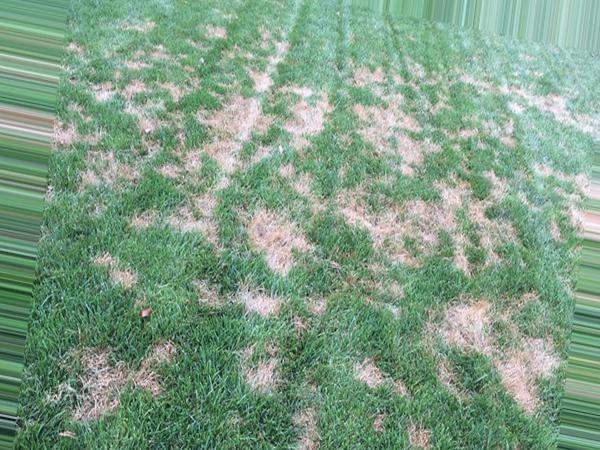patch: (285, 68, 456, 198), (403, 216, 515, 334), (477, 87, 583, 203), (232, 192, 359, 282), (272, 136, 456, 198), (207, 235, 339, 314), (116, 41, 199, 142), (59, 341, 151, 421), (463, 341, 560, 407), (150, 138, 242, 205), (86, 130, 147, 216), (263, 352, 322, 415), (212, 92, 272, 150), (72, 57, 128, 118)
